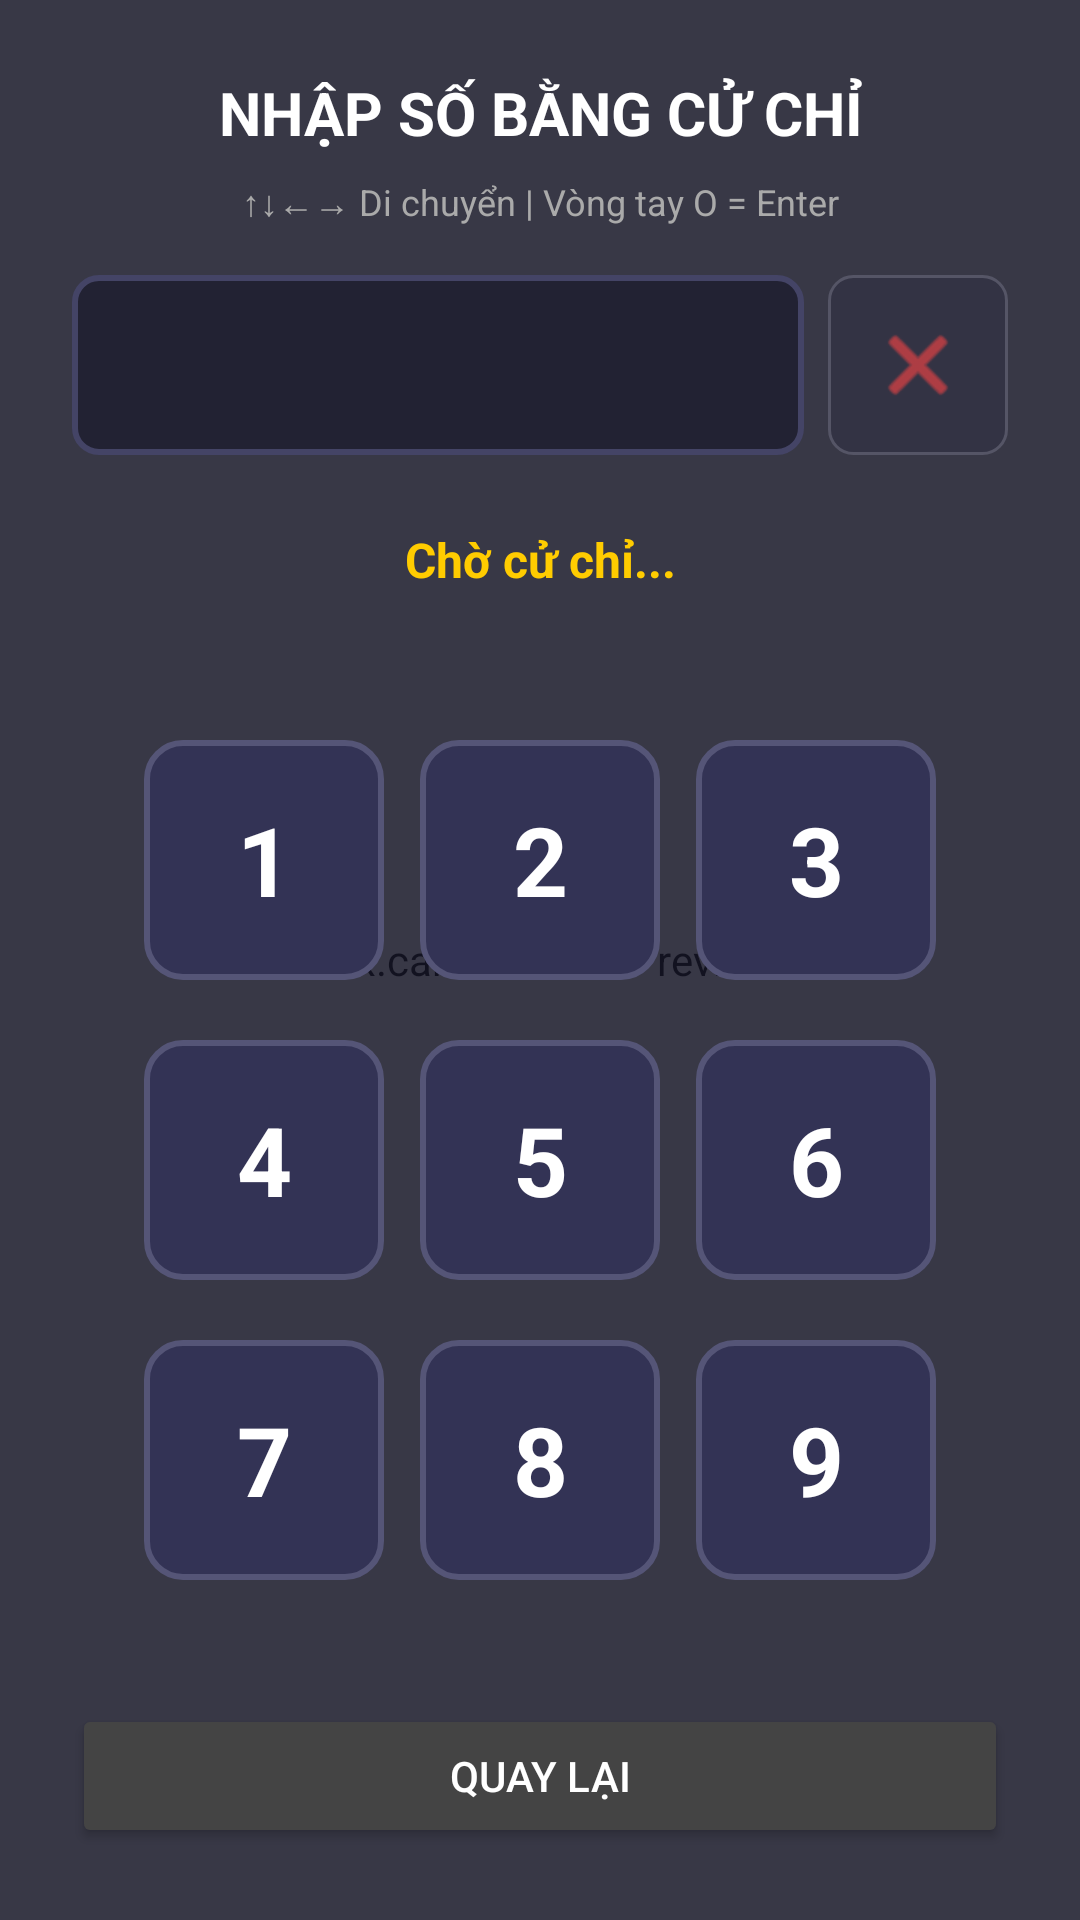

Named icons in this screenshot (1080px×1920px) and their bounding boxes, region(x1, y1, x2, y2):
Clear: region(828, 275, 1008, 455)
